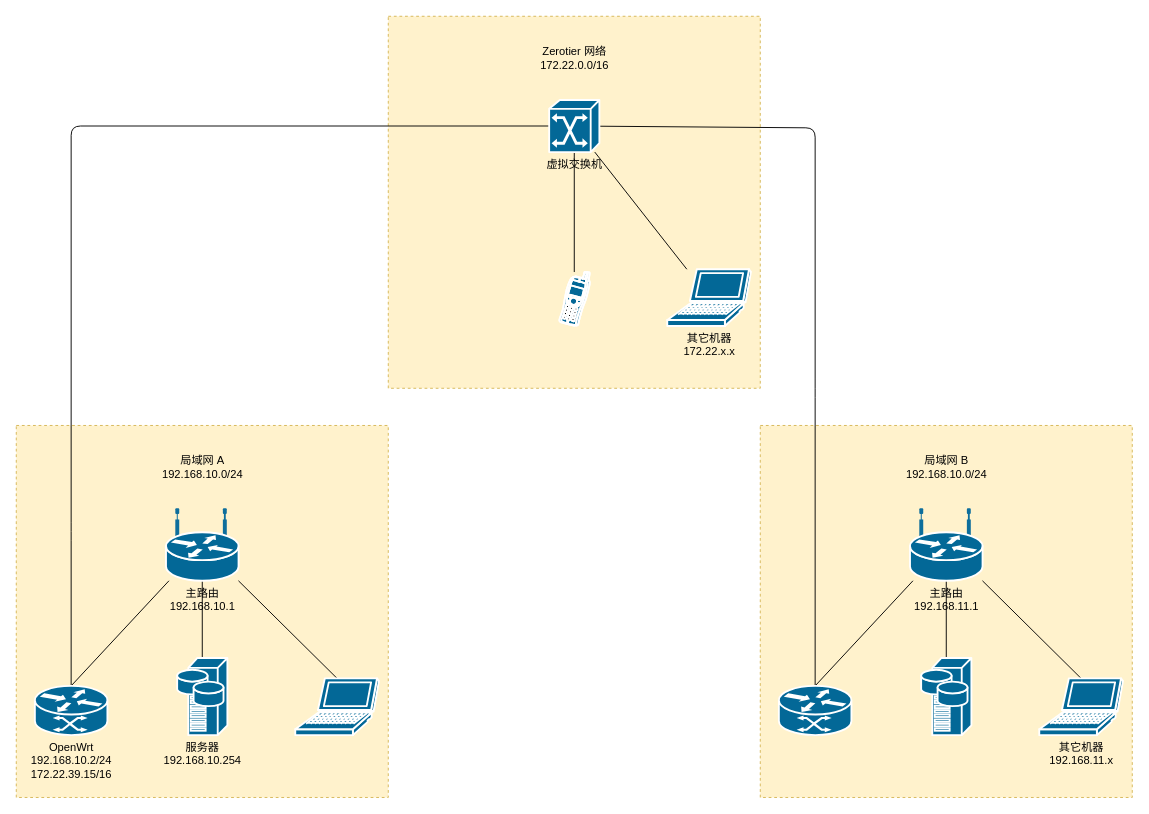
Image size: 1149x814. Some labels were removed from this diagram. The centre of each missing label's shape, as x and y in pixels:
"OpenWrt 192.168.11.2/24 172.22.105.60/16" belongs at [814,710].
"其它机器 192.168.10.x" belongs at [336,706].
"服务器 192.168.11.254" belongs at [946,696].
"移动设备 172.22.x.x" belongs at [574,298].
